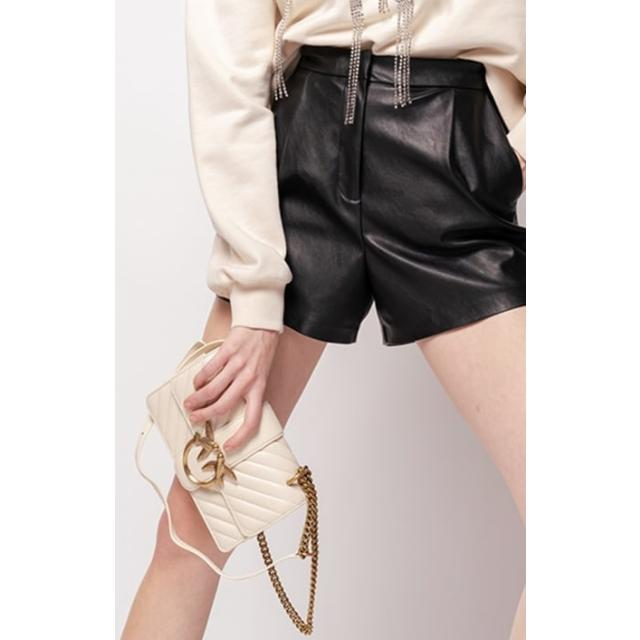cotton: (205, 0, 525, 58)
